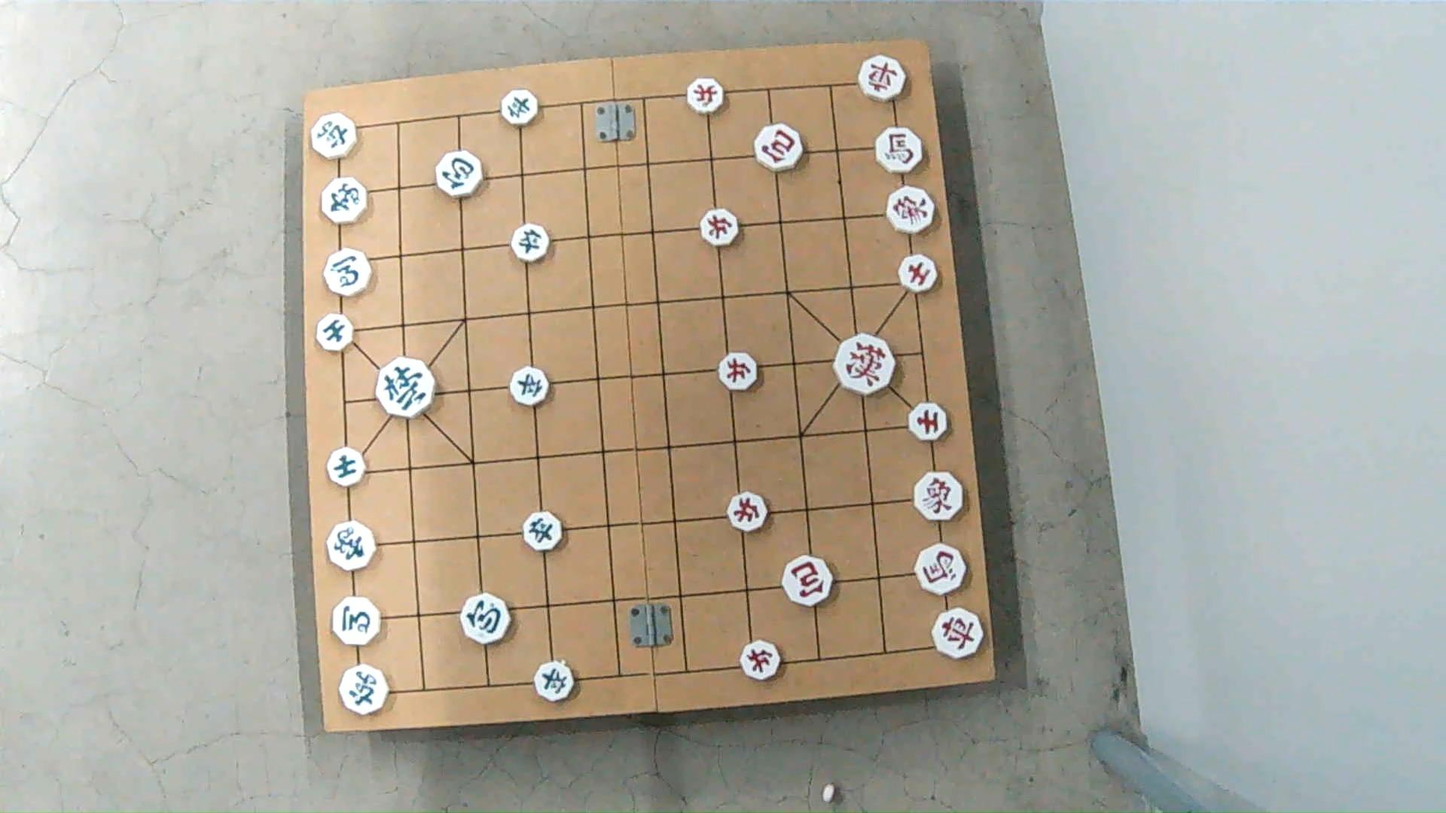cha_green: (337, 666, 390, 713), (309, 116, 359, 160)
cha_red: (931, 611, 984, 658), (859, 59, 908, 100)
jol_green: (532, 664, 577, 701), (522, 515, 565, 551), (507, 369, 551, 403), (513, 226, 554, 261), (502, 92, 543, 124)
jol_red: (740, 641, 782, 678), (718, 356, 761, 391), (727, 497, 770, 532), (699, 212, 741, 245), (685, 80, 725, 112)
ma_green: (332, 600, 386, 646), (322, 252, 374, 294)
ma_red: (914, 542, 971, 595), (874, 129, 924, 172)
po_green: (460, 596, 513, 641), (432, 152, 484, 194)
po_red: (782, 561, 834, 605), (755, 127, 806, 169)
sa_green: (313, 312, 355, 354), (325, 449, 367, 485)
sa_red: (895, 251, 939, 297), (906, 403, 949, 439)
sang_green: (328, 520, 380, 572), (322, 176, 369, 225)
sang_red: (912, 473, 966, 521), (886, 185, 938, 234)
wang_green: (376, 359, 438, 417)
wang_red: (834, 336, 898, 391)
